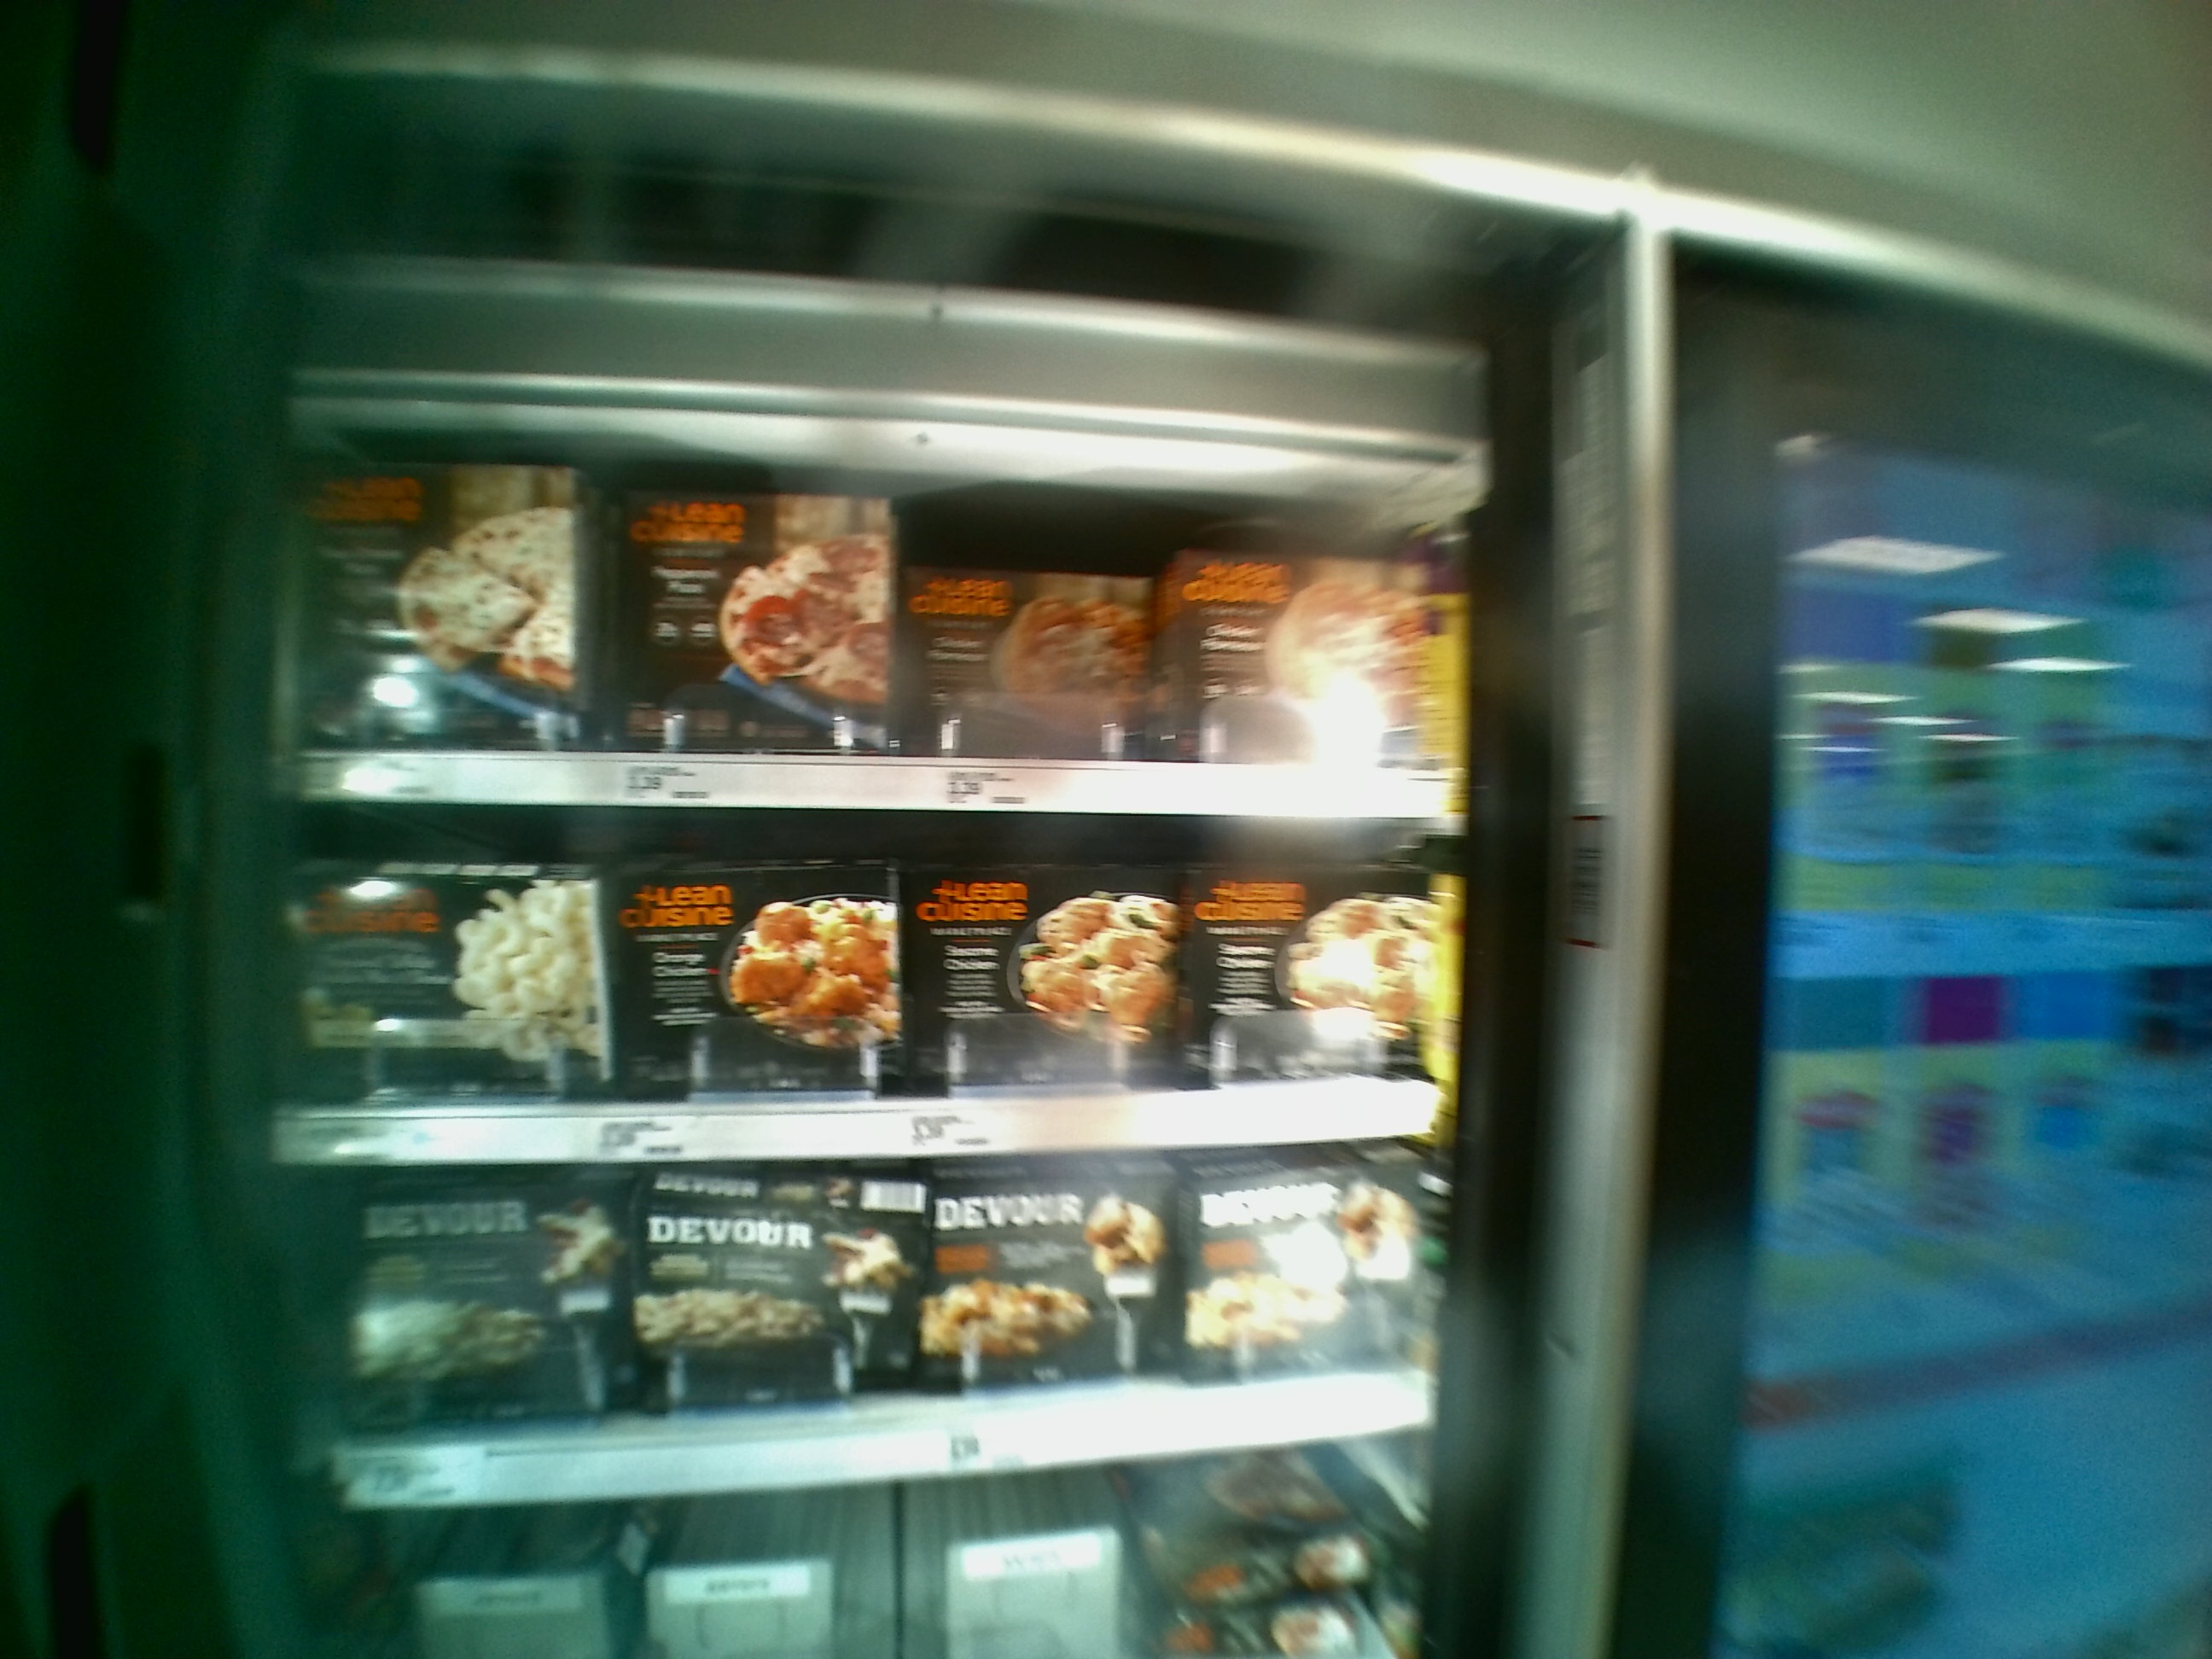shelf: (275, 392, 1451, 814), (270, 1129, 1451, 1502), (275, 796, 1453, 1162)
